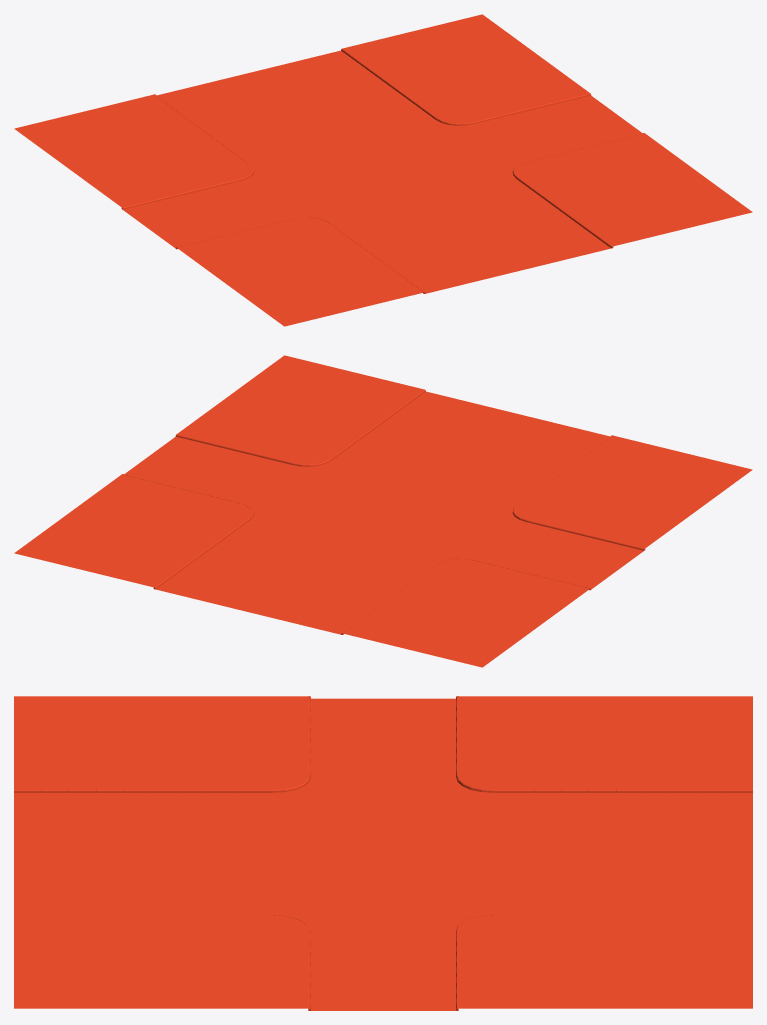
File: SM_MainroadToRoad_Exit_B_30x30_City.fbx
The picture shows the model from 3 angles, top to bottom: view 1: azimuth 30°, elevation 25°; view 2: azimuth 150°, elevation 25°; view 3: azimuth 270°, elevation 25°; orthographic projection. The views are drawn at different scales.
Visible parts, largest first — view 1: SM_MainroadToRoad_Exit_B_30x30_City; view 2: SM_MainroadToRoad_Exit_B_30x30_City; view 3: SM_MainroadToRoad_Exit_B_30x30_City.
Part boxes in pixels (x1,y1,x2,y2): SM_MainroadToRoad_Exit_B_30x30_City: (14, 14, 752, 326); SM_MainroadToRoad_Exit_B_30x30_City: (14, 355, 752, 667); SM_MainroadToRoad_Exit_B_30x30_City: (14, 696, 752, 1010).
Size of the model in its own units: 30 by 0.1084 by 30.
